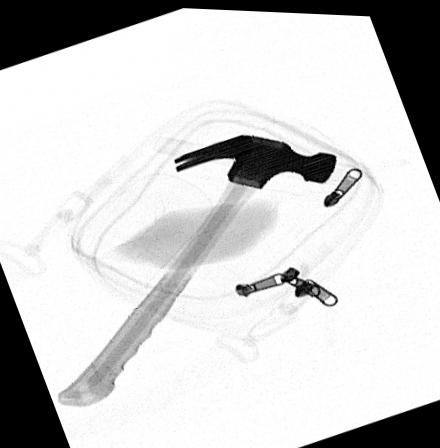Hammer: (54, 130, 336, 407)
